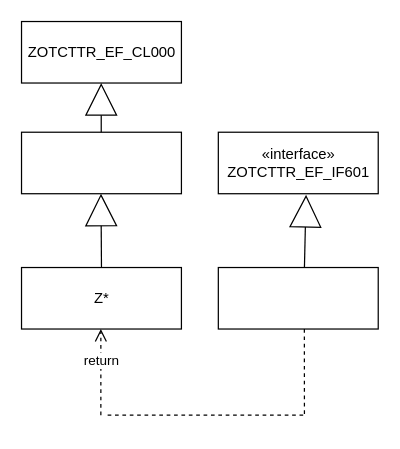
Some shapes in this 400 by 449 pixel diagram are drawn without their labels. Here are the shapes that lost their labels. From the top down, the centre of each, then its label:
At (x=100, y=162): "«interface» ZOTCTTR_EF_IF602".
At (x=297, y=297): "ZOTCTTR_EF_CL600".
